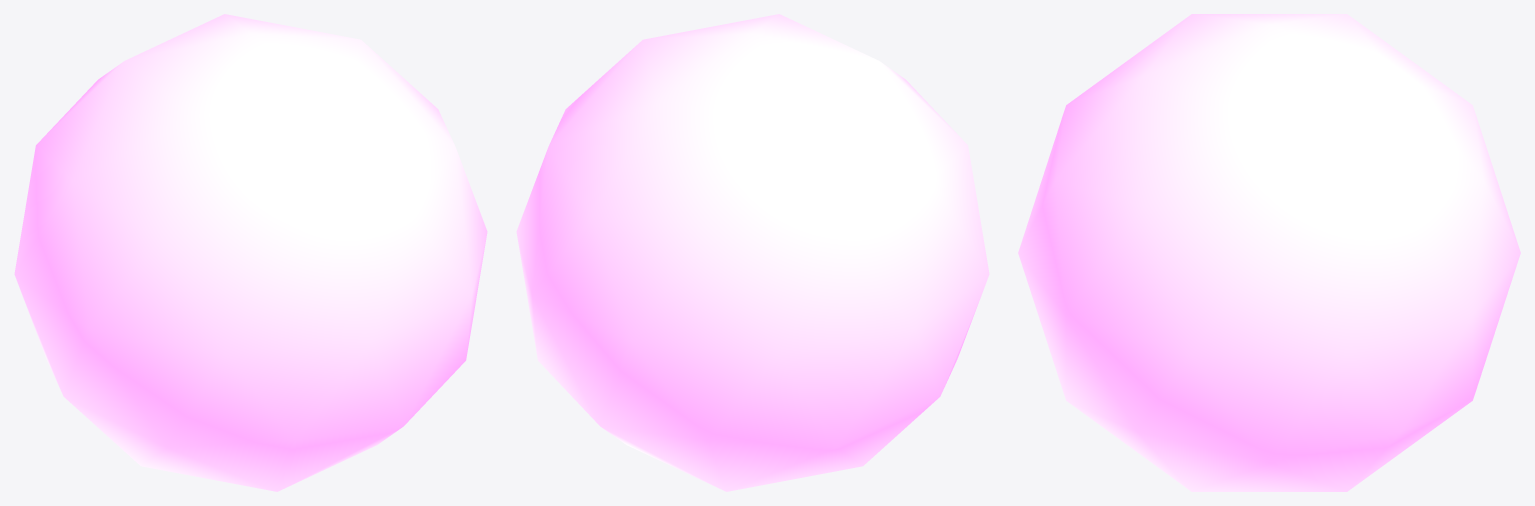
Rendered from caco_ball.gltf.
3 renders of one model, left to right at view 1: azimuth 30°, elevation 25°; view 2: azimuth 150°, elevation 25°; view 3: azimuth 270°, elevation 25°, orthographic. The views are drawn at different scales.
Parts seen in each view (by area): view 1: caco_ball; view 2: caco_ball; view 3: caco_ball.
Part boxes in pixels (x1,y1,x2,y2): caco_ball: [14, 14, 487, 491]; caco_ball: [516, 14, 989, 491]; caco_ball: [1018, 14, 1520, 491].
Bounding box in the file's own units: 0.3804 × 0.4 × 0.4.
